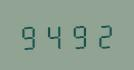four: (42, 20, 65, 50)
nine: (18, 20, 41, 50), (66, 20, 89, 49)
two: (90, 19, 113, 49)
